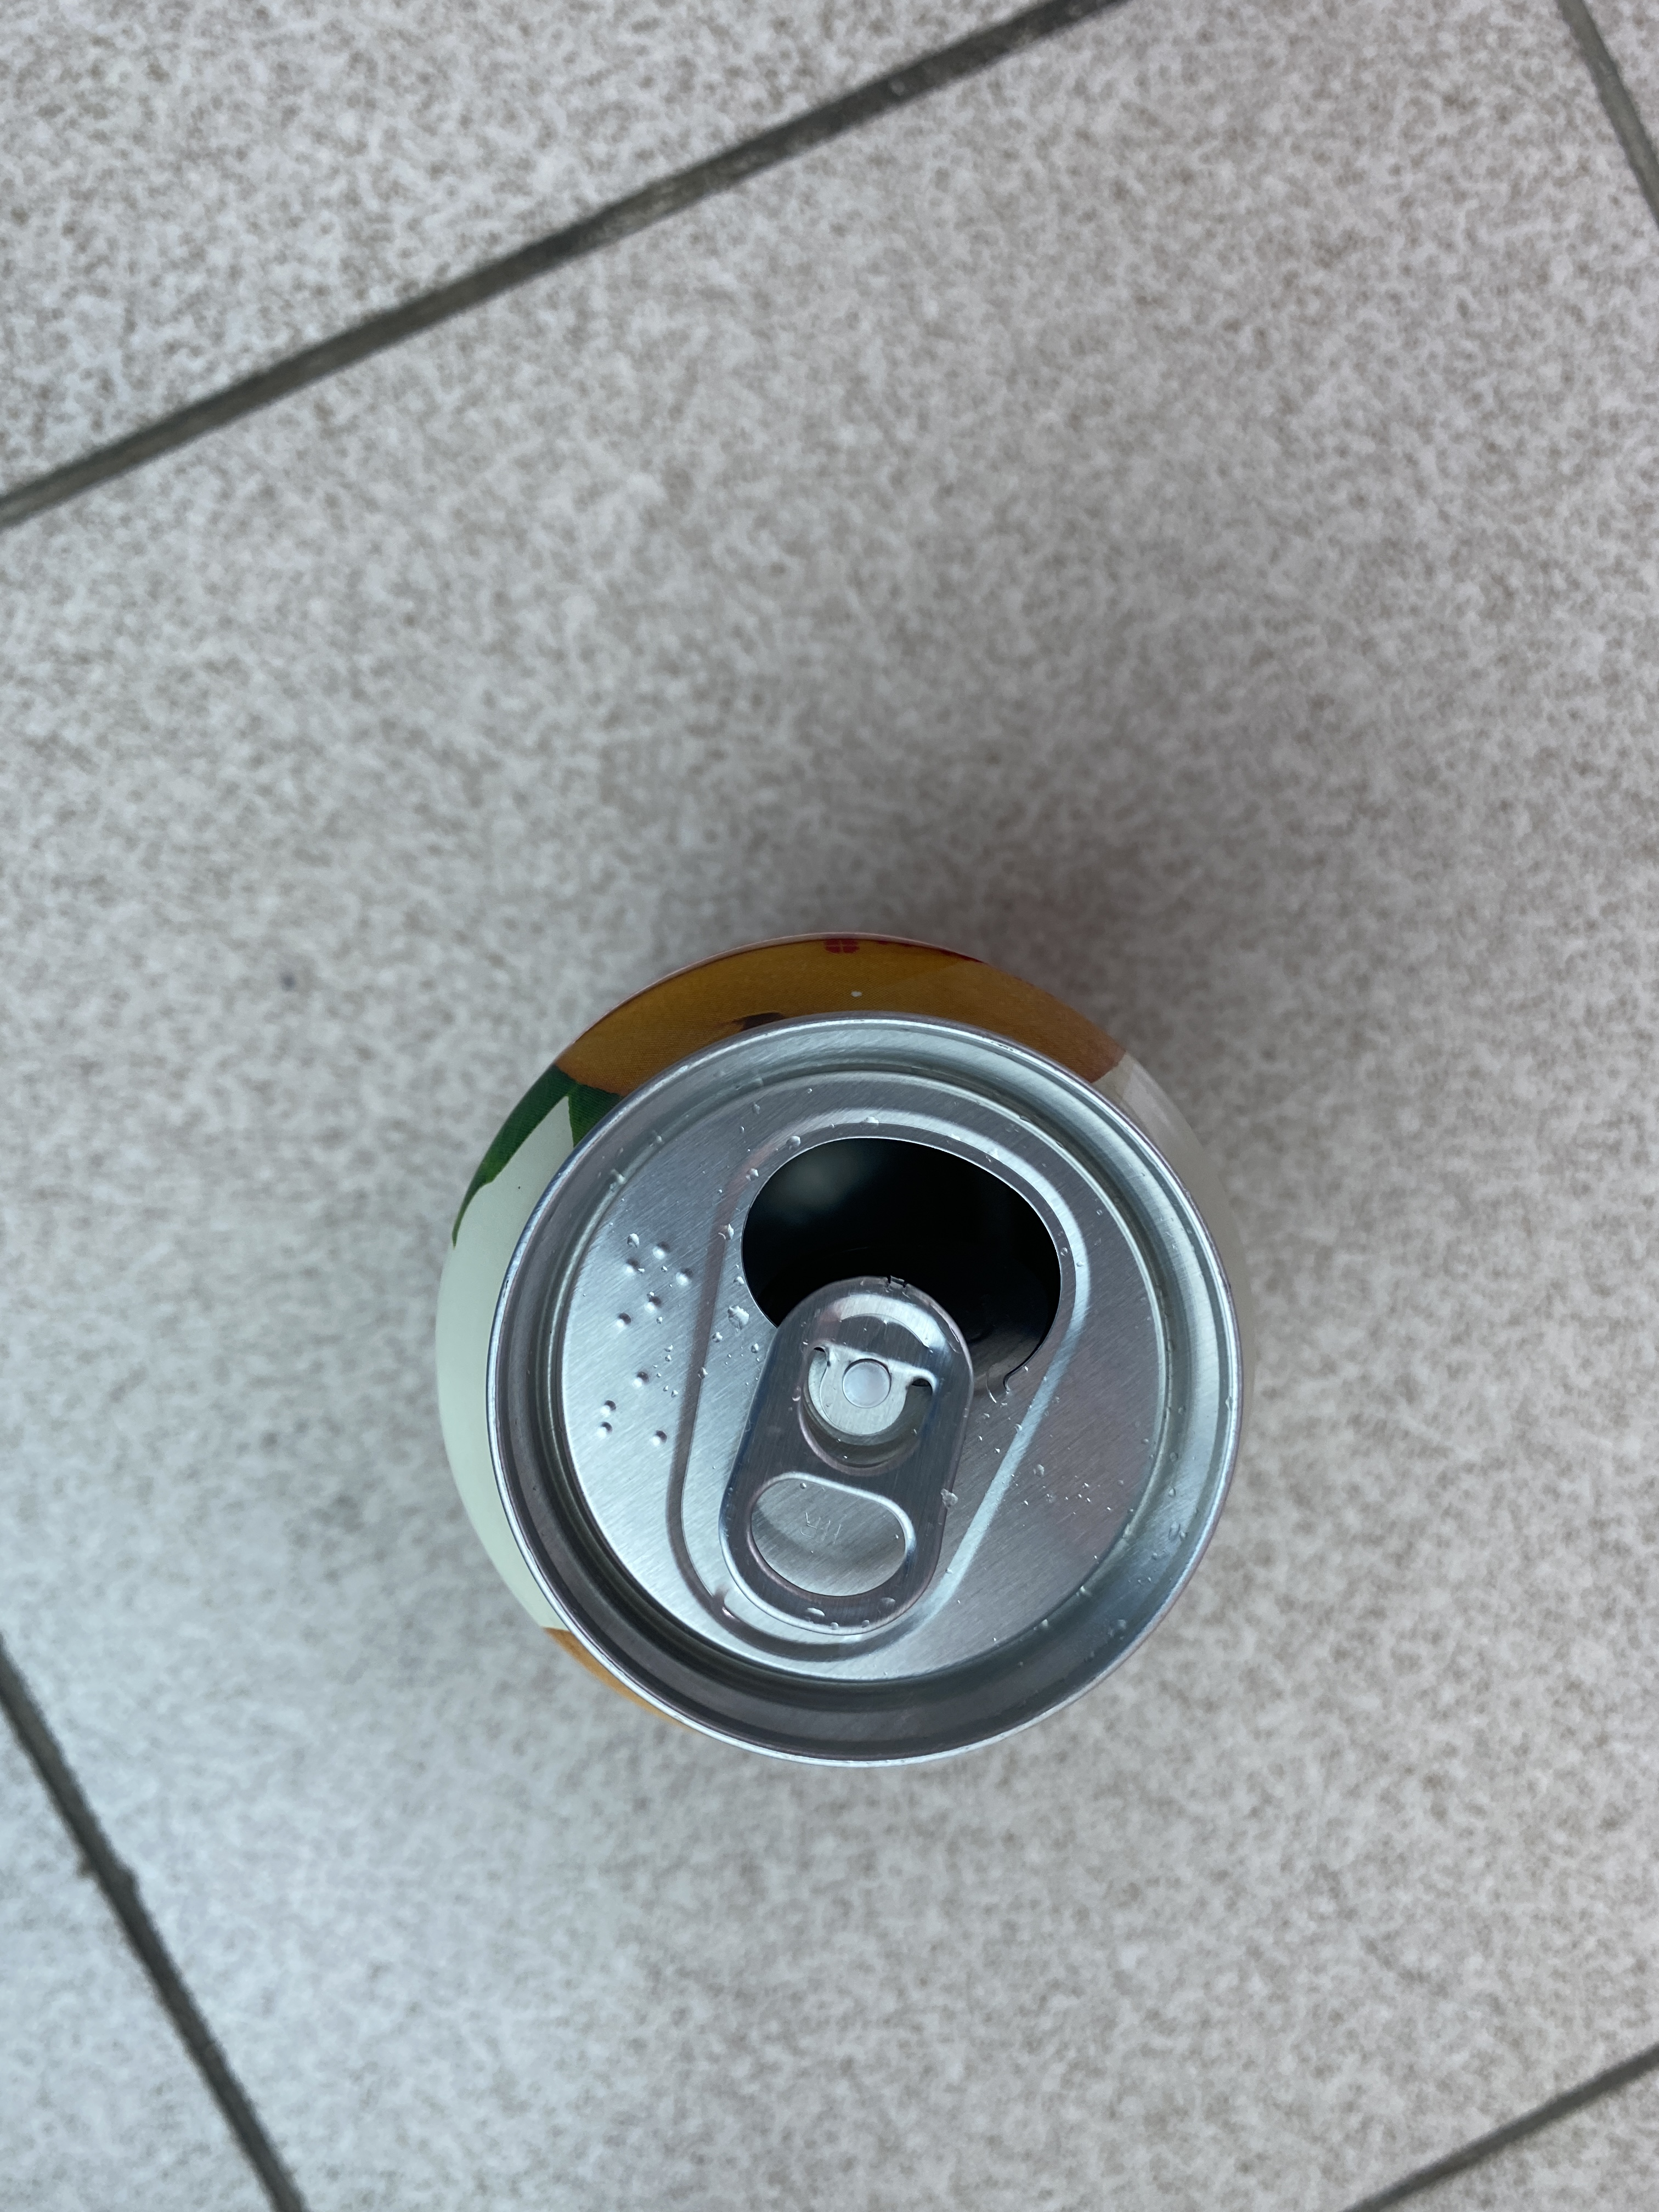metal: (321, 888, 1326, 1808)
